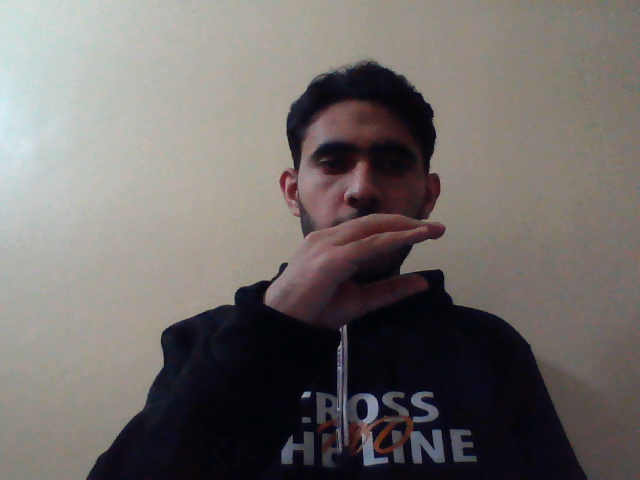C: (257, 209, 445, 337)
